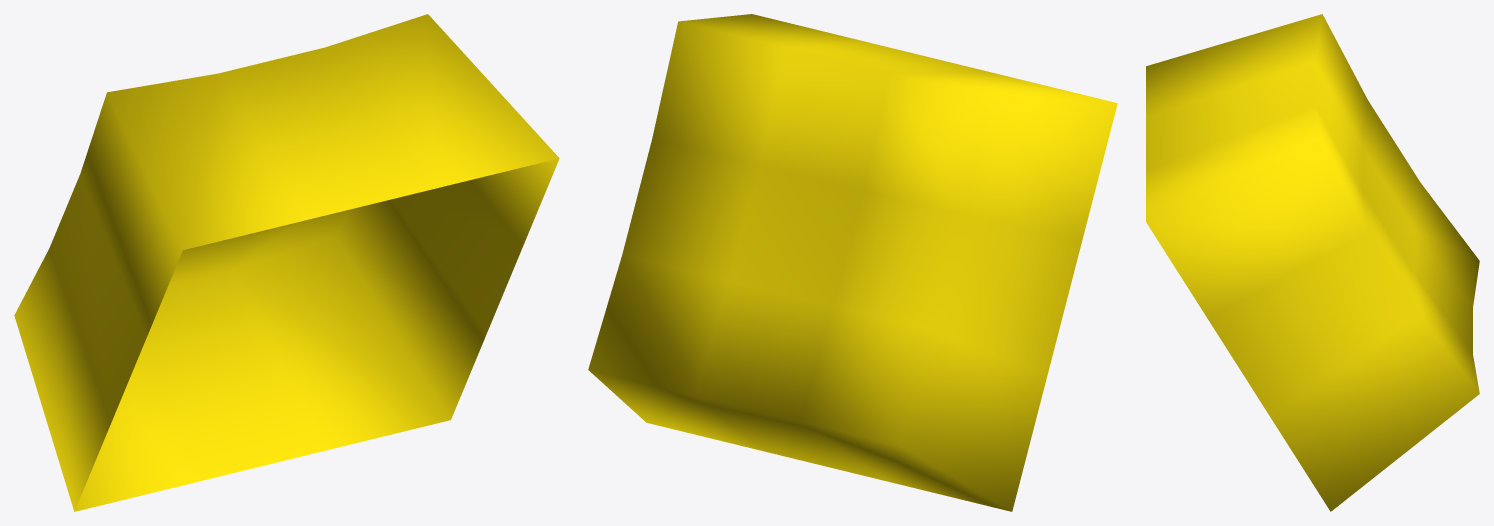
File: SM_Button2.fbx
3 renders of one model, left to right at view 1: azimuth 30°, elevation 25°; view 2: azimuth 150°, elevation 25°; view 3: azimuth 270°, elevation 25°, orthographic. The views are drawn at different scales.
Parts seen in each view (by area): view 1: Button2_low; view 2: Button2_low; view 3: Button2_low.
Part boxes in pixels (x1=…): Button2_low: x1=14, y1=14, x2=559, y2=511; Button2_low: x1=588, y1=14, x2=1117, y2=511; Button2_low: x1=1146, y1=14, x2=1479, y2=511.
Bounding box in the file's own units: 0.0702 × 0.0742 × 0.0635.
